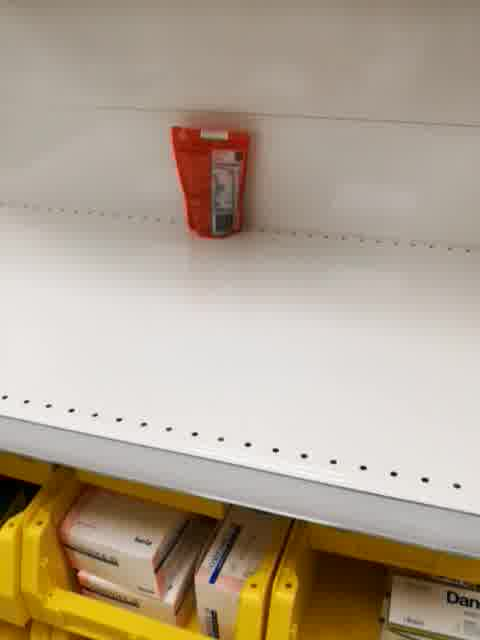whitechia: (168, 123, 253, 240)
